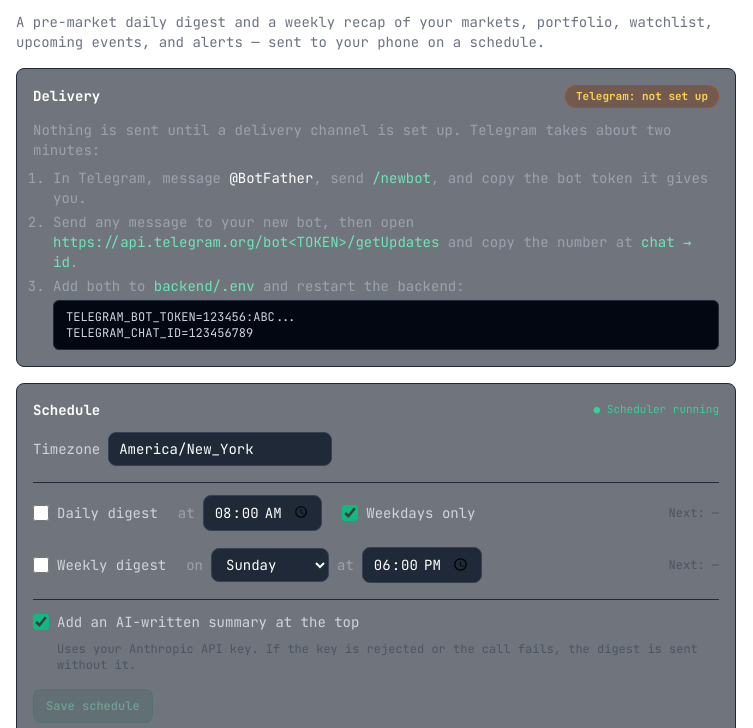
DigestCenter › shows the server validation message when saving is rejected
Replace the text in the field labelled "Timezone" with "Mars/Olympus". click: (220, 448)
box: [108, 432, 332, 466]
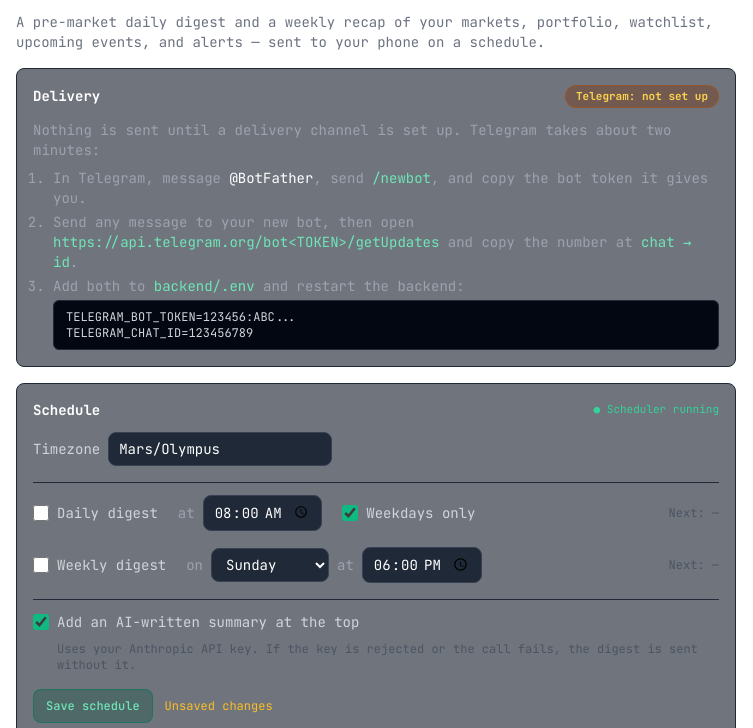
Click the button "Save schedule". click: (93, 706)
box: [33, 688, 153, 722]
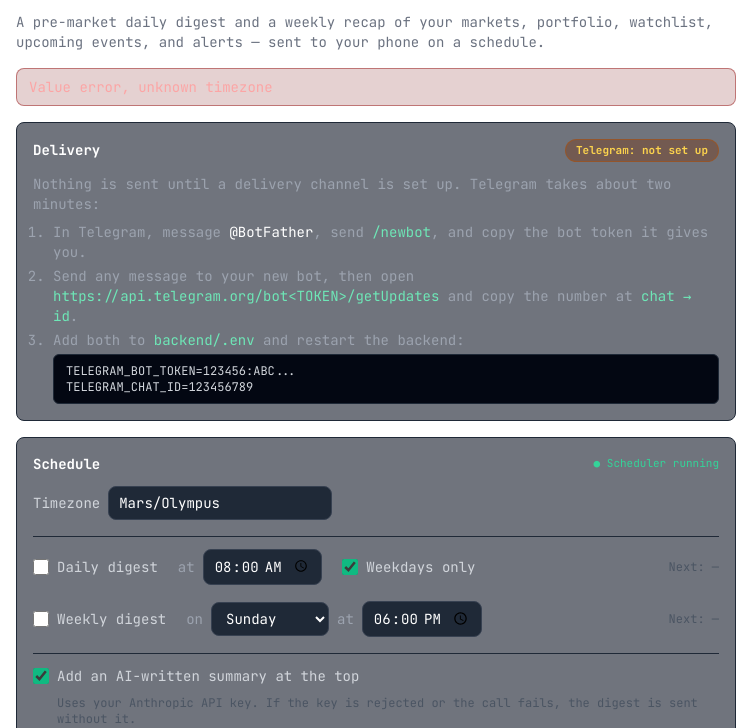
Now the text "Value error, unknown timezone" is shown, box [16, 68, 736, 106]
